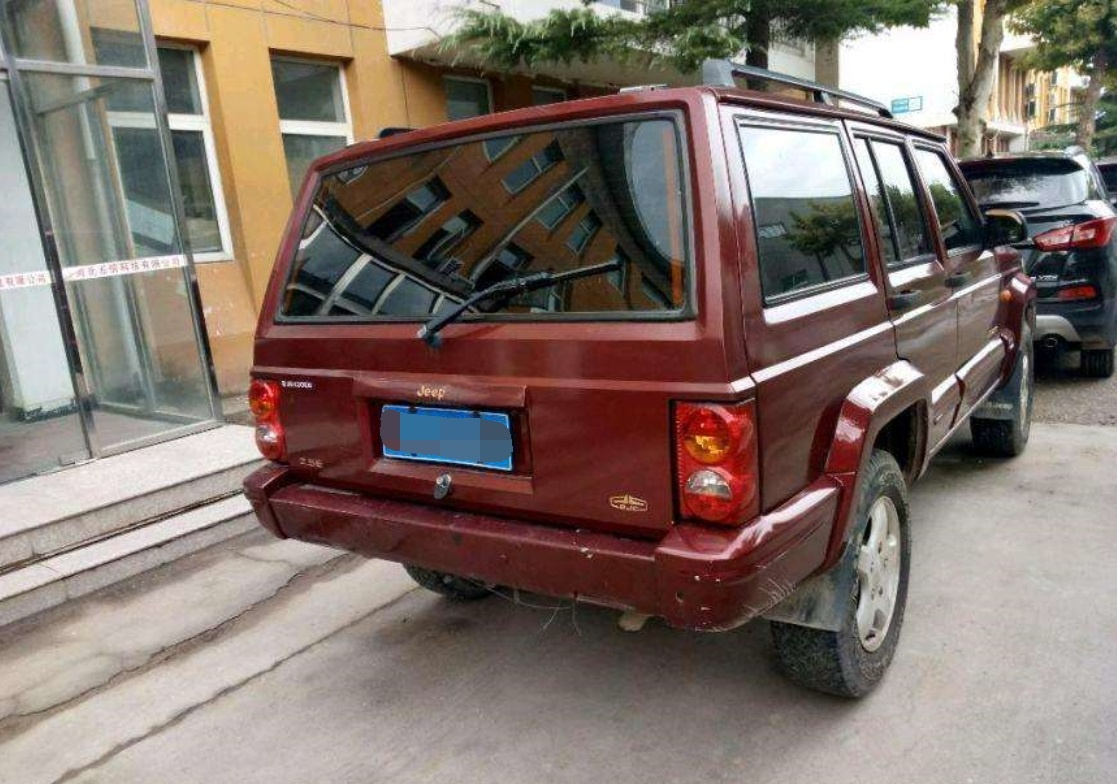jeep: (239, 116, 1062, 706)
